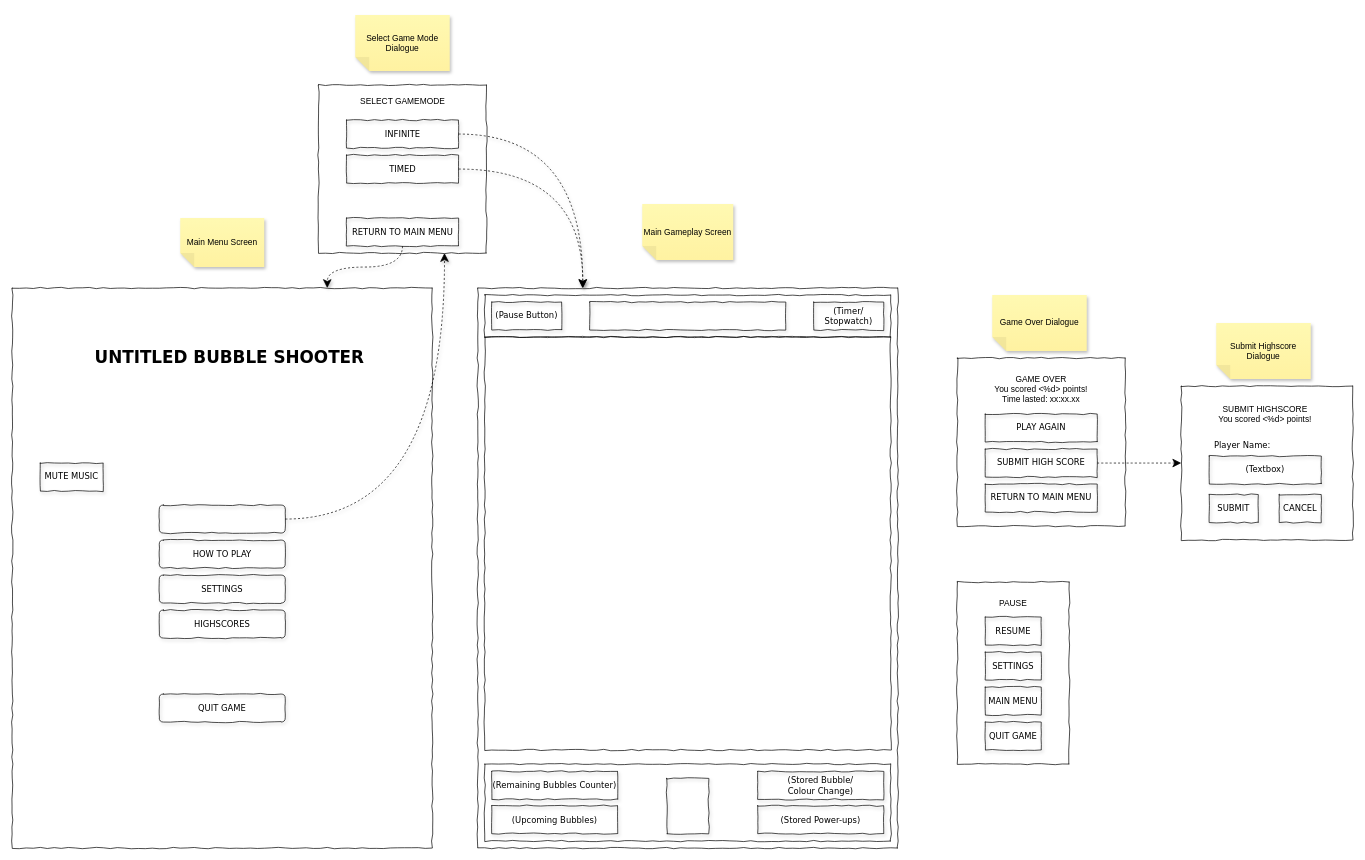
Some shapes in this 1365 by 860 pixel diagram are drawn without their labels. Here are the shapes that lost their labels. From the top down, the centre of each, then its label:
point (688, 317): (Score Tracker)
point (222, 520): START GAME
point (688, 807): (Blaster)
